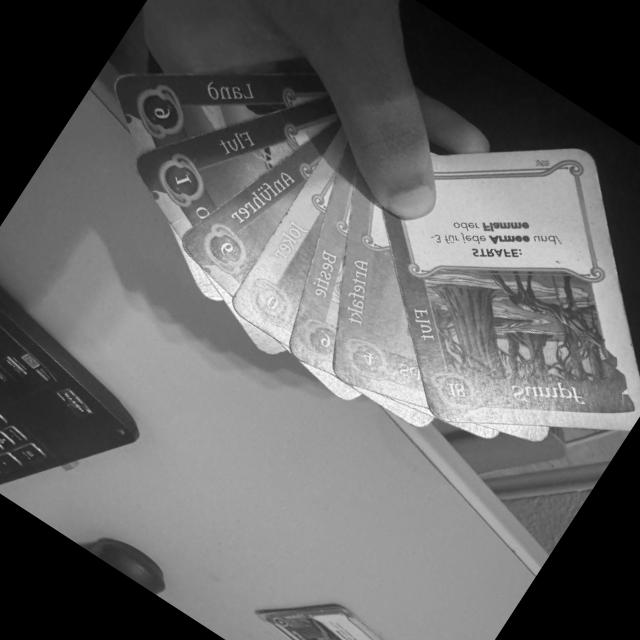Fountain Of Life: (130, 97, 338, 235)
Mountain: (110, 72, 331, 159)
Queen: (176, 116, 341, 295)
Shapeshifter: (229, 124, 349, 346)
Shield Of Keth: (334, 165, 430, 410)
Swamp: (380, 149, 640, 431)
Unicorn: (286, 142, 357, 375)
